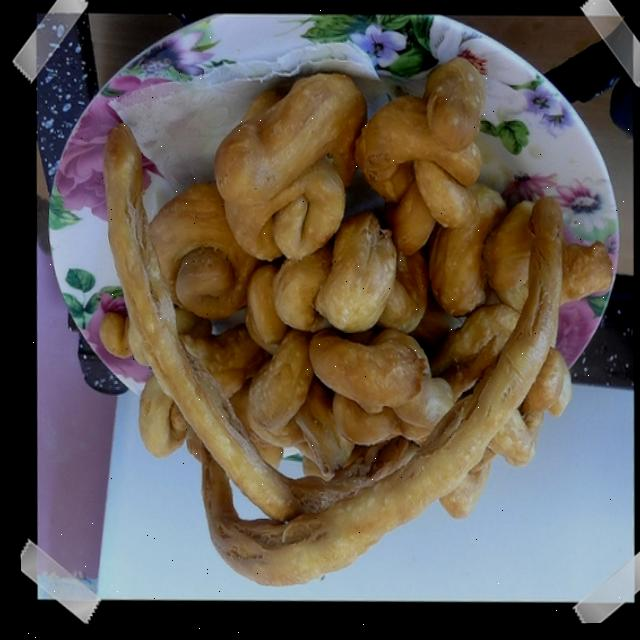炸货点心: (56, 19, 623, 594)
